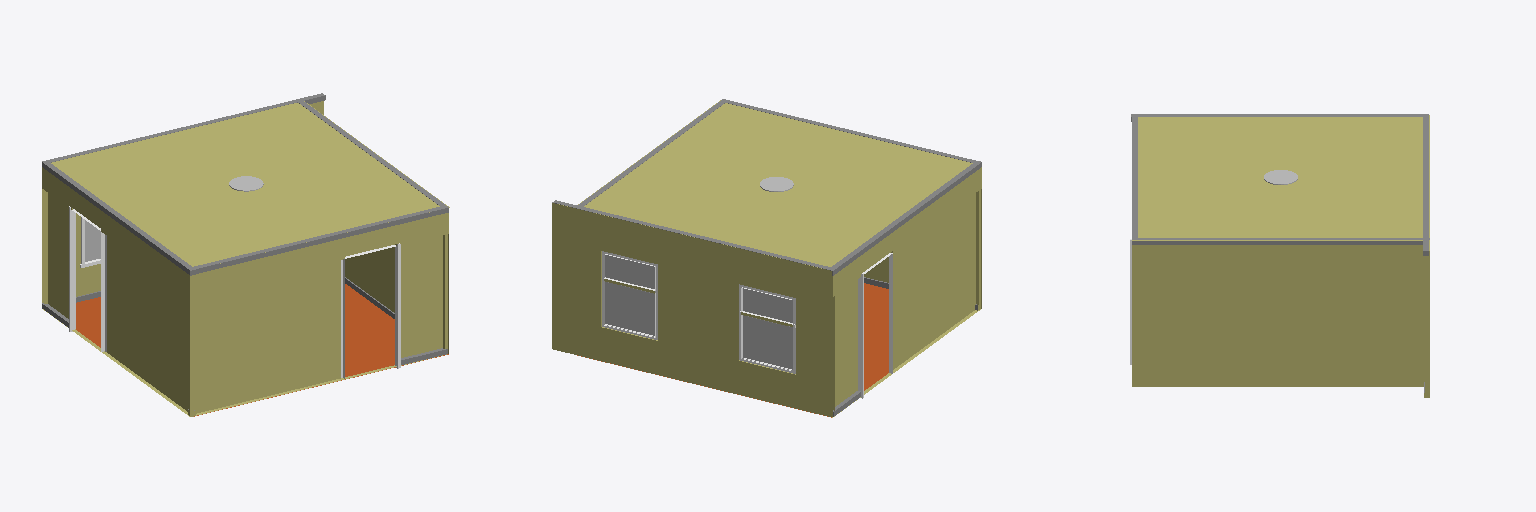
File: room2.obj
3 renders of one model, left to right at view 1: azimuth 30°, elevation 25°; view 2: azimuth 150°, elevation 25°; view 3: azimuth 270°, elevation 25°, orthographic.
Parts seen in each view (by area): view 1: Plane.005_Plane.006, Cube.041_Cube.002, Cube.048_Cube.042, Plane.003_Plane.004, Cube.042_Cube.005, Cube.040_Cube.001, Cube.054_Cube.039, Cube.051_Cube.044, Cube.045_Cube.031, Cube.046_Cube.041; view 2: Plane.005_Plane.006, Cube.040_Cube.001, Cube.046_Cube.041, Cube.048_Cube.042, Plane.003_Plane.004, Cube.051_Cube.044, Cube.041_Cube.002, Cube.054_Cube.039, Cube.045_Cube.031, Cube.052_Cube.045, Cube.042_Cube.005; view 3: Cube.042_Cube.005, Plane.005_Plane.006, Cube.045_Cube.031, Cube.046_Cube.041, Cube.051_Cube.044, Cube.054_Cube.039.
Part boxes in pixels (x1,y1,x2,y2): Plane.005_Plane.006: (51,101,449,266); Cube.041_Cube.002: (188,213,448,415); Cube.048_Cube.042: (42,167,195,416); Plane.003_Plane.004: (76,284,448,416); Cube.042_Cube.005: (345,234,447,354); Cube.040_Cube.001: (42,127,186,303); Cube.054_Cube.039: (190,206,448,273); Cube.051_Cube.044: (42,162,195,275); Cube.045_Cube.031: (298,101,448,207); Cube.046_Cube.041: (184,93,325,129); Plane.005_Plane.006: (578,100,972,268); Cube.040_Cube.001: (690,235,835,417); Cube.046_Cube.041: (552,200,696,383); Cube.048_Cube.042: (832,167,981,416); Plane.003_Plane.004: (577,283,888,417); Cube.051_Cube.044: (832,161,981,275); Cube.041_Cube.002: (864,189,980,310); Cube.054_Cube.039: (721,99,980,163); Cube.045_Cube.031: (576,99,727,208); Cube.052_Cube.045: (858,273,863,398); Cube.042_Cube.005: (574,208,579,355); Cube.042_Cube.005: (1132,245,1424,386); Plane.005_Plane.006: (1132,115,1429,240); Cube.045_Cube.031: (1132,238,1429,244); Cube.046_Cube.041: (1423,181,1429,397); Cube.051_Cube.044: (1131,114,1422,121); Cube.054_Cube.039: (1132,114,1137,237).
Bounding box in the file's own units: 10.93 × 5.52 × 10.04.